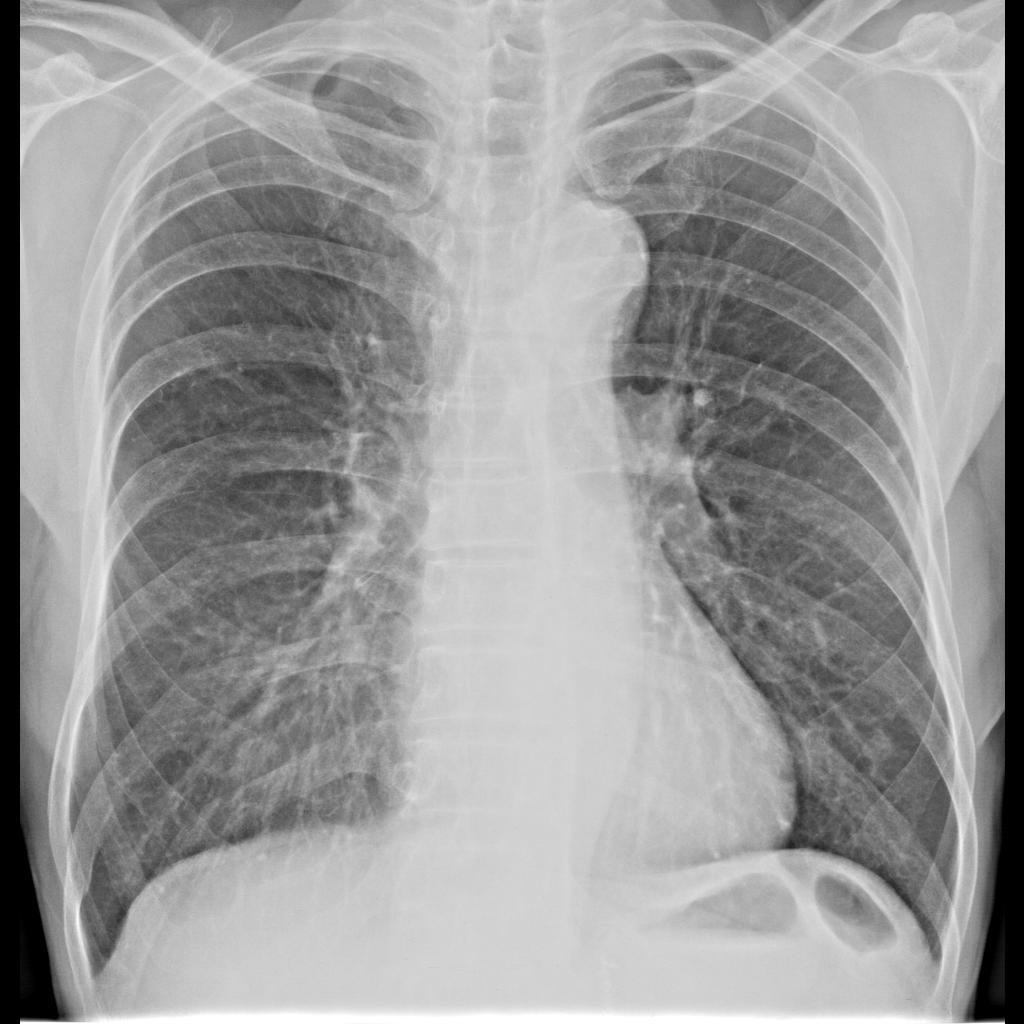Nodule: (859, 732, 893, 766)
